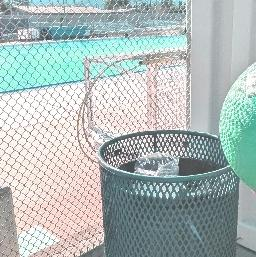algae: (217, 43, 256, 205)
